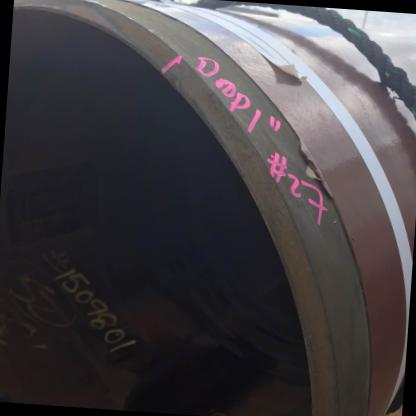Bevel: (161, 66, 217, 126)
